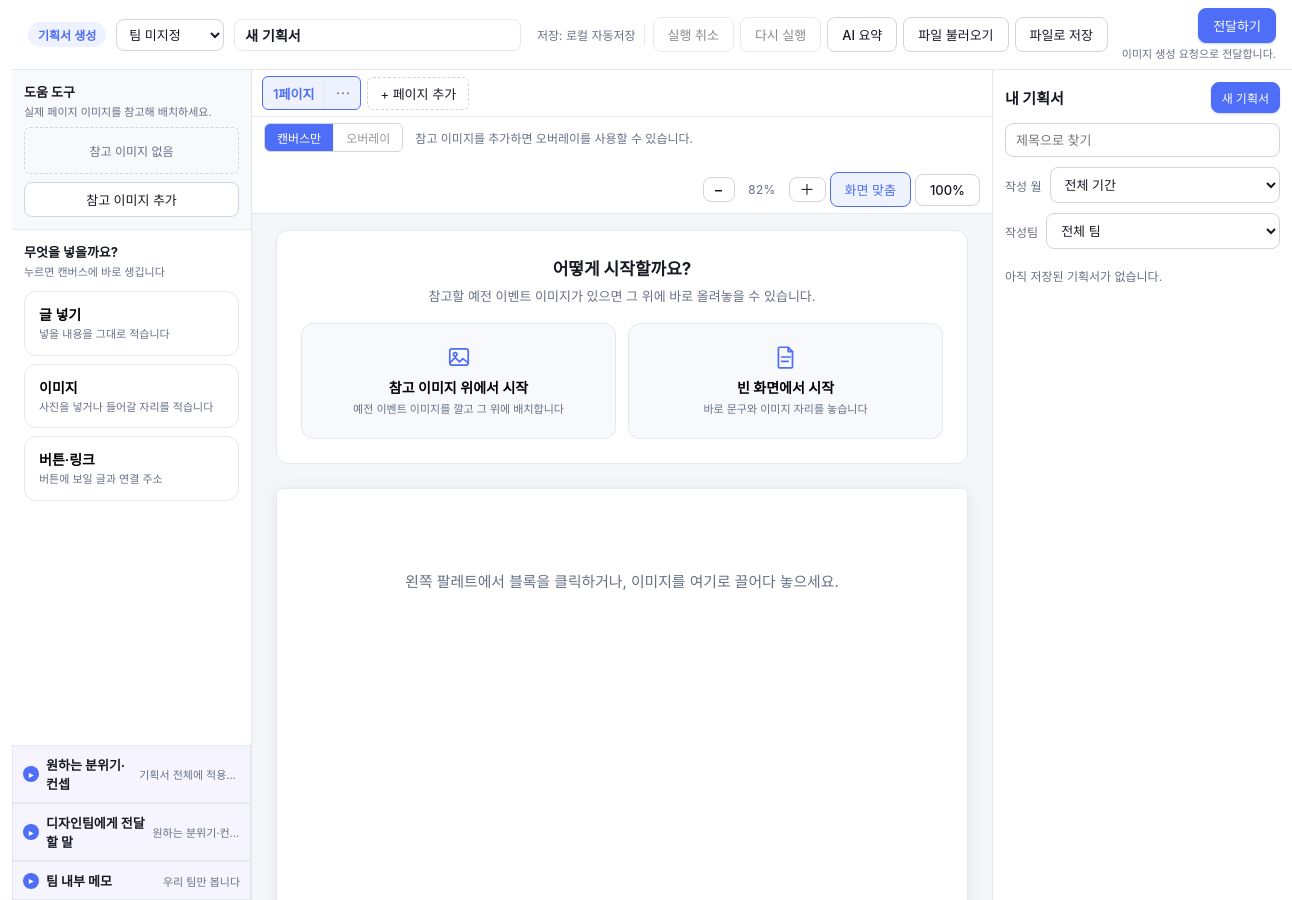
Test: §2 어떤 형태의 기획서도 그대로 저장된다 › delivers a brief that holds no blocks
Click the button "빈 화면에서 시작 바로 문구와 이미지 자리를 놓습니다". click: (786, 381)
box: top-left (628, 323), bottom-right (943, 438)
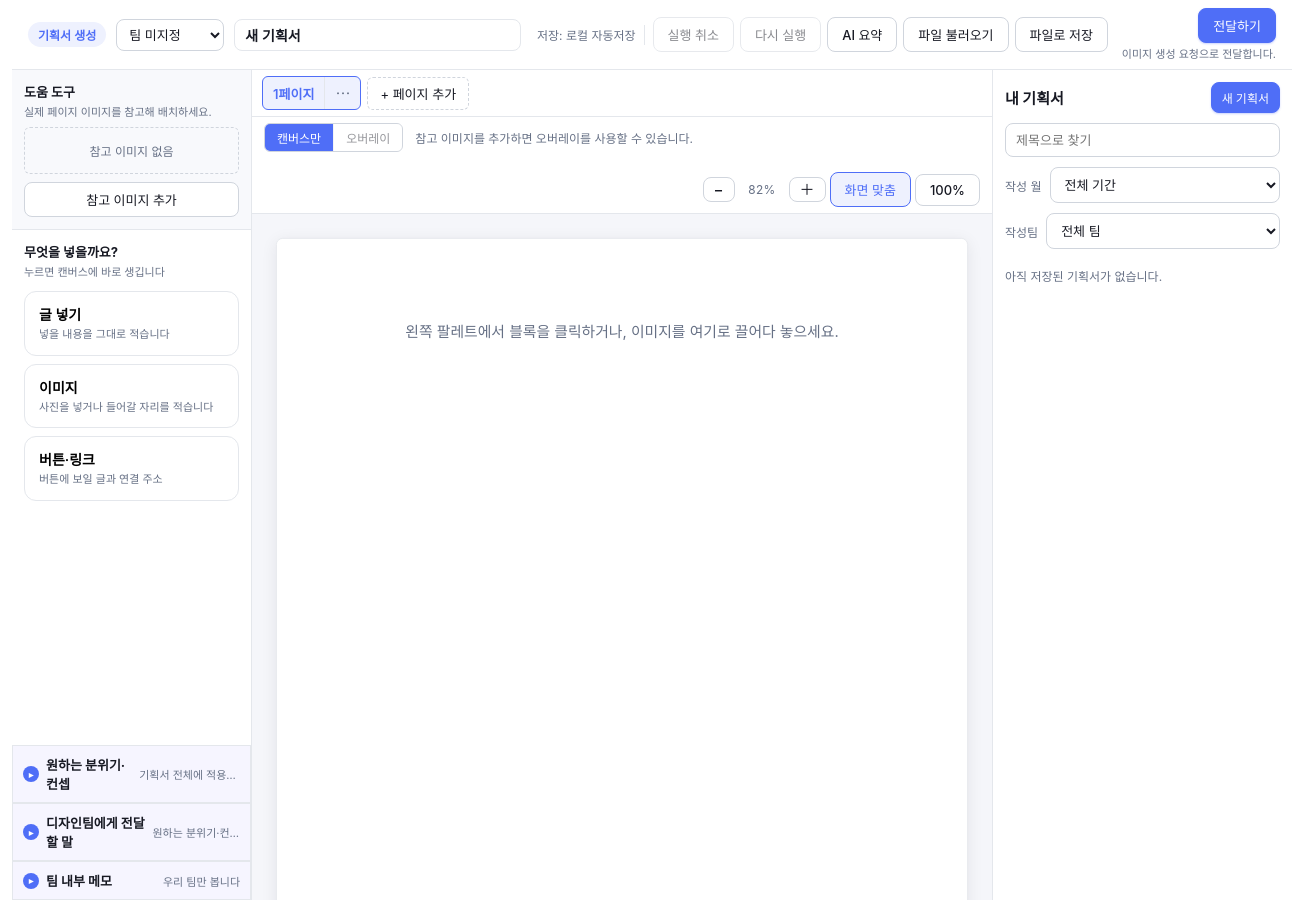
Type "컨셉만 있는 기획서" into the field named "기획서 제목". click: (378, 34)
box: top-left (234, 18), bottom-right (521, 50)
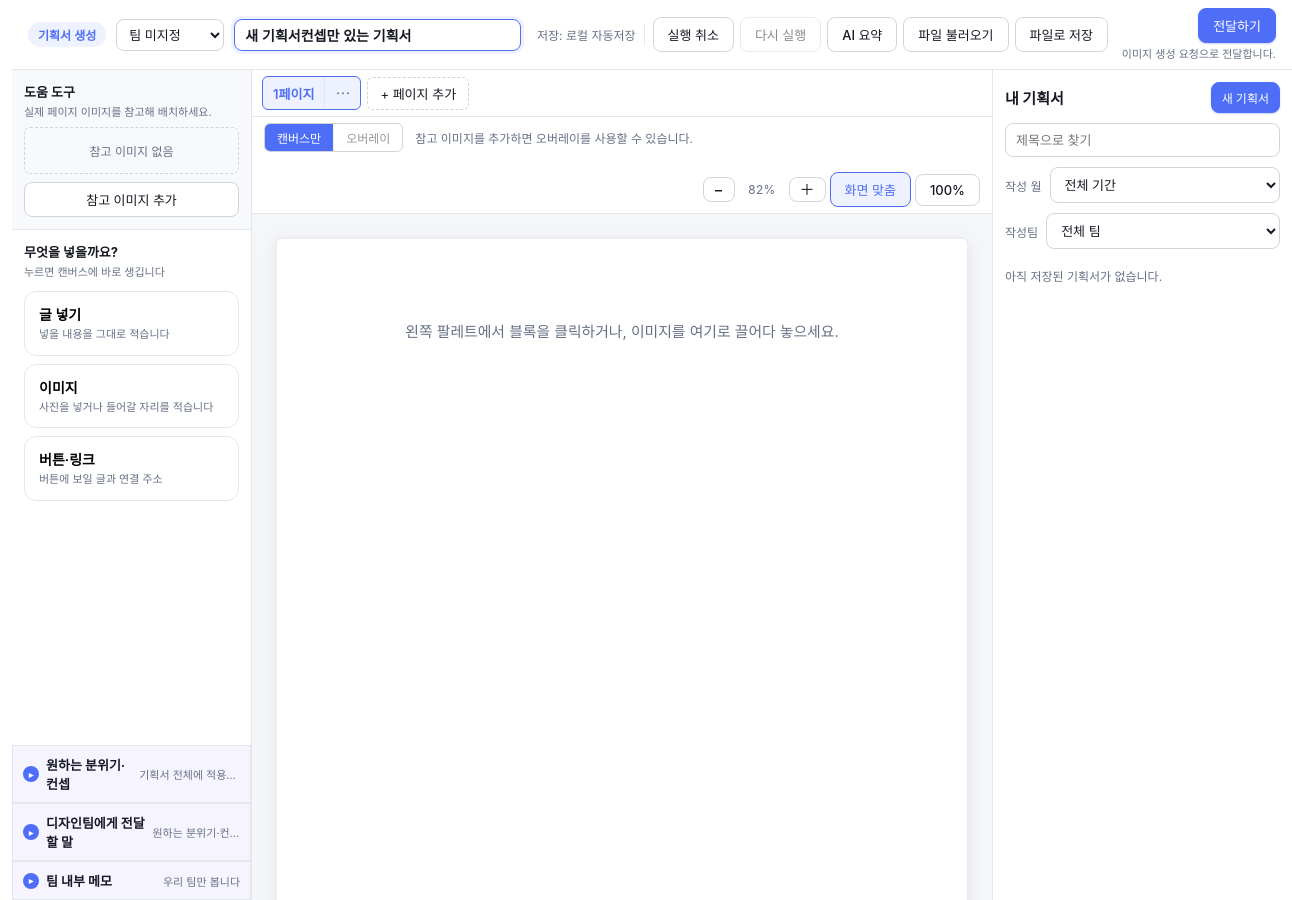
Click the button "▸ 원하는 분위기·컨셉 기획서 전체에 적용할 느낌". click: (132, 774)
box: top-left (13, 746), bottom-right (250, 802)
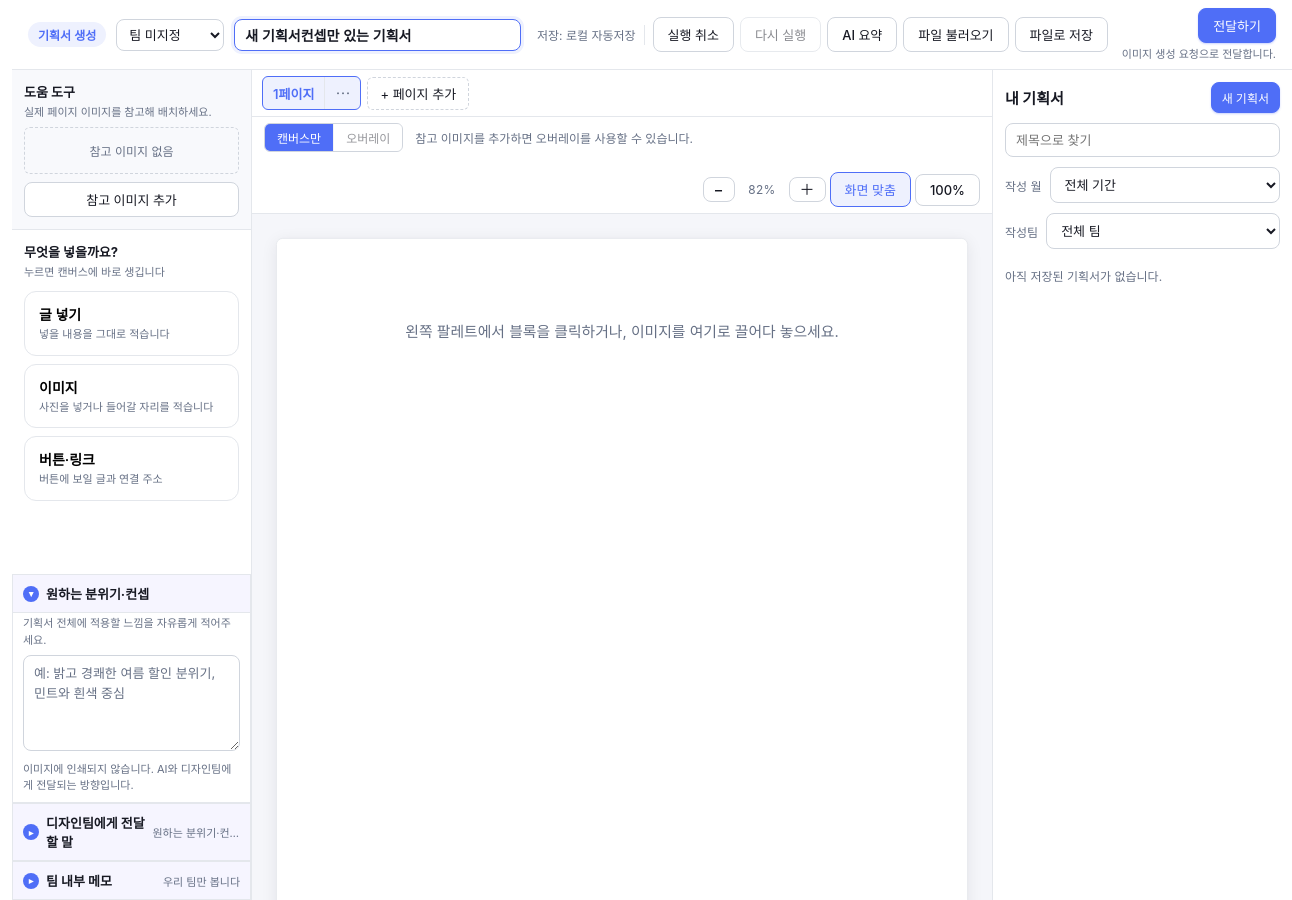
Type "조용하고 단정하게" into the text box named "원하는 분위기·컨셉". click: (132, 703)
box: top-left (23, 655), bottom-right (240, 751)
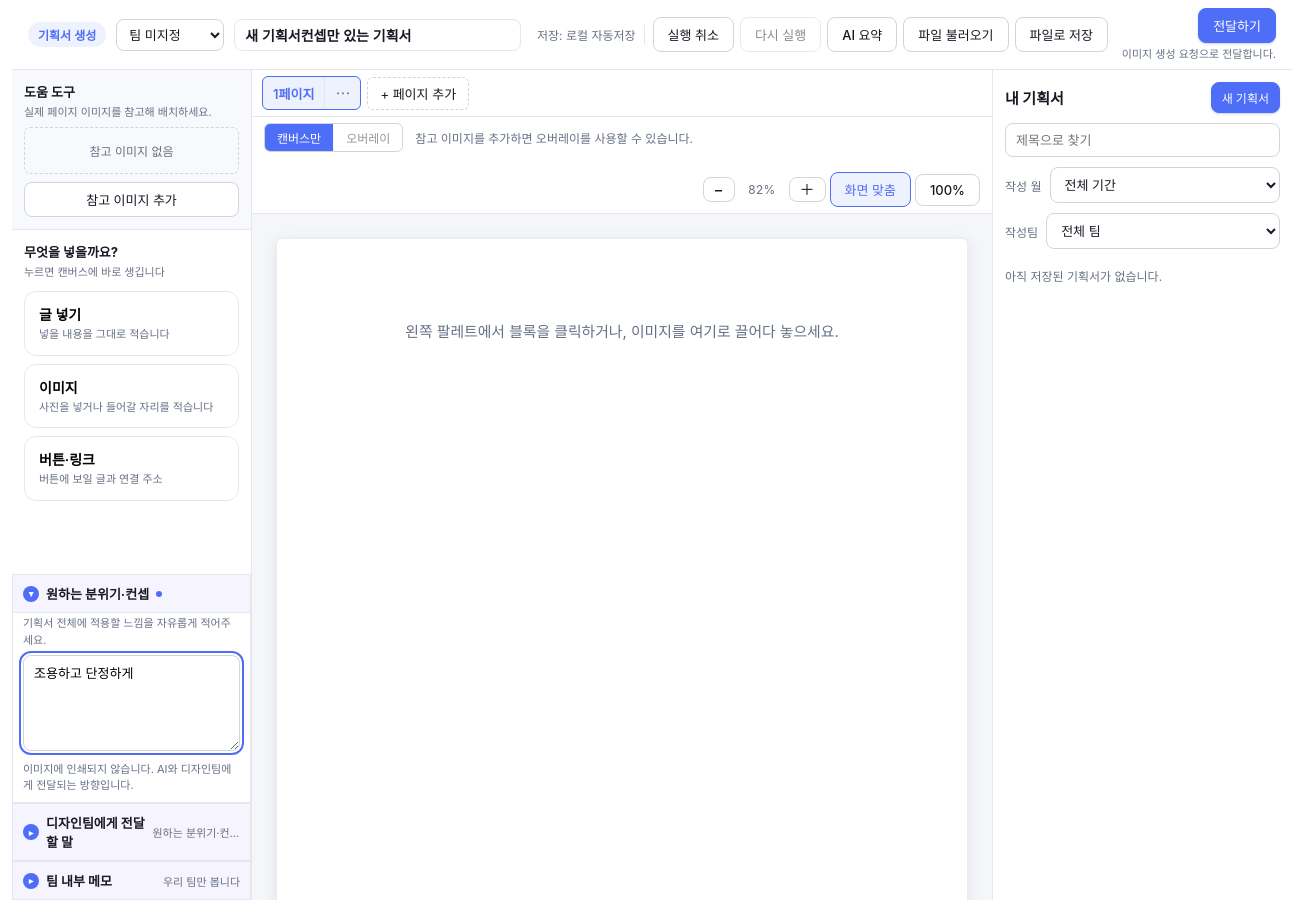
Click the button "전달하기". click: (1237, 26)
box: top-left (1198, 8), bottom-right (1276, 43)
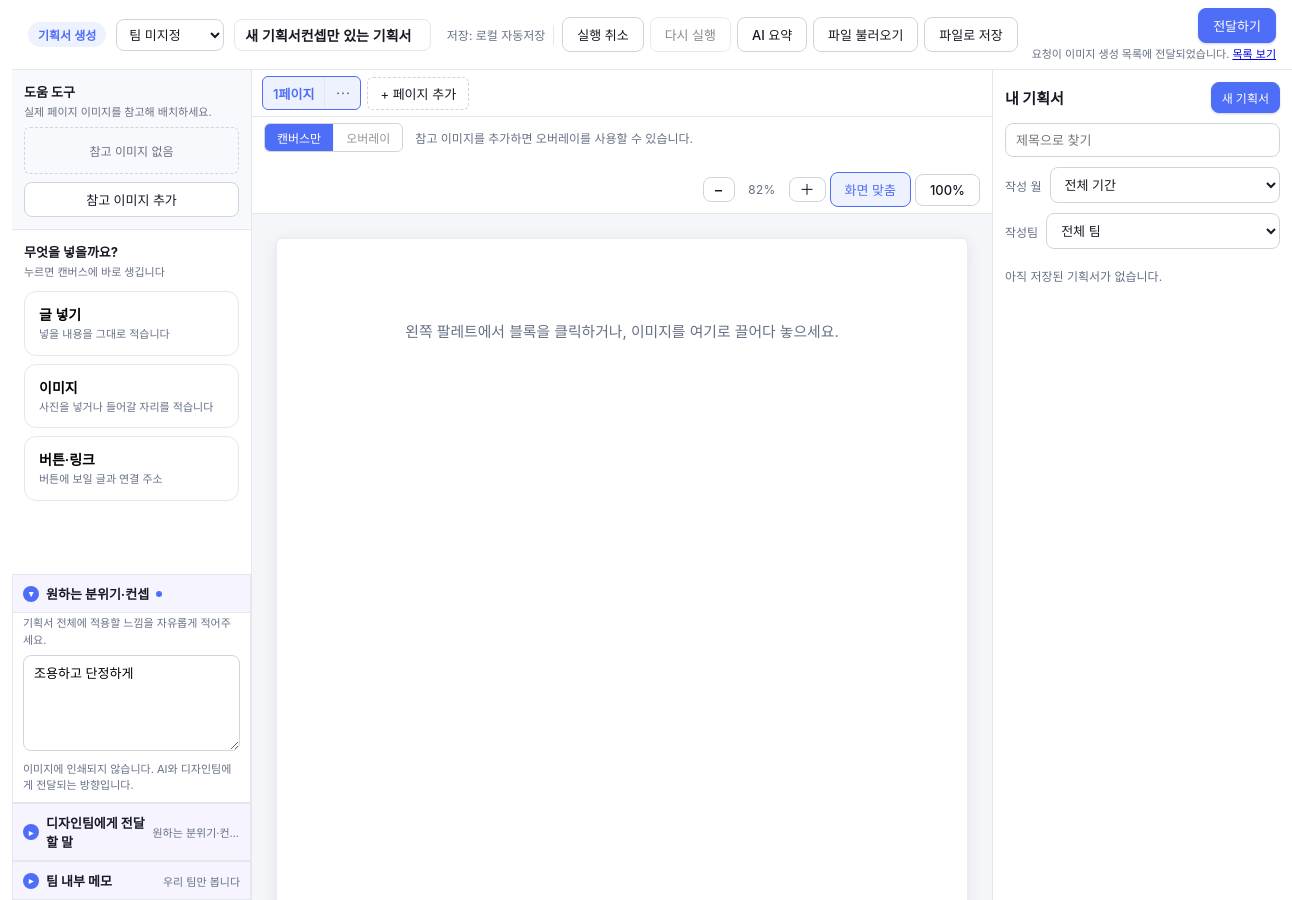
Now the text "요청이 이미지 생성 목록에 전달되었습니다. 목록 보기" is shown, box top-left (1032, 45), bottom-right (1276, 61)
